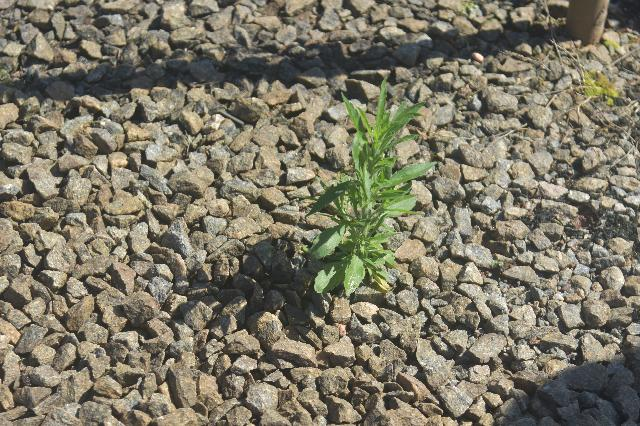MalezaMontesDelPlata: (293, 73, 444, 309)
MusgoMontesDelPlata: (579, 63, 625, 109)
